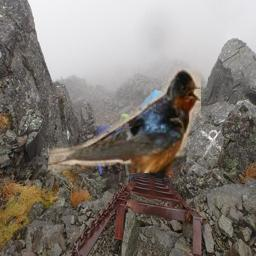Swallow: (48, 68, 201, 173)
